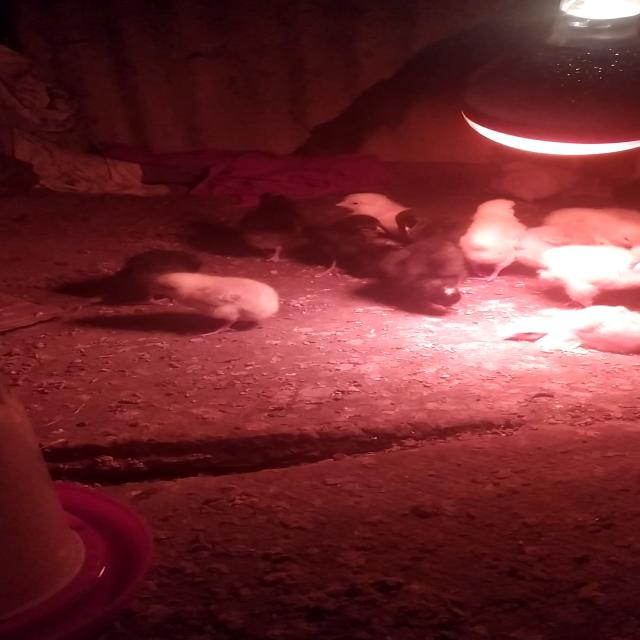chick: (148, 272, 280, 337), (379, 235, 468, 312), (535, 246, 640, 308), (458, 198, 529, 282), (509, 225, 625, 275), (522, 305, 640, 354), (239, 191, 314, 261), (301, 216, 387, 277), (118, 246, 202, 306), (539, 208, 640, 253), (334, 193, 428, 239), (486, 158, 562, 212), (396, 209, 481, 249)
